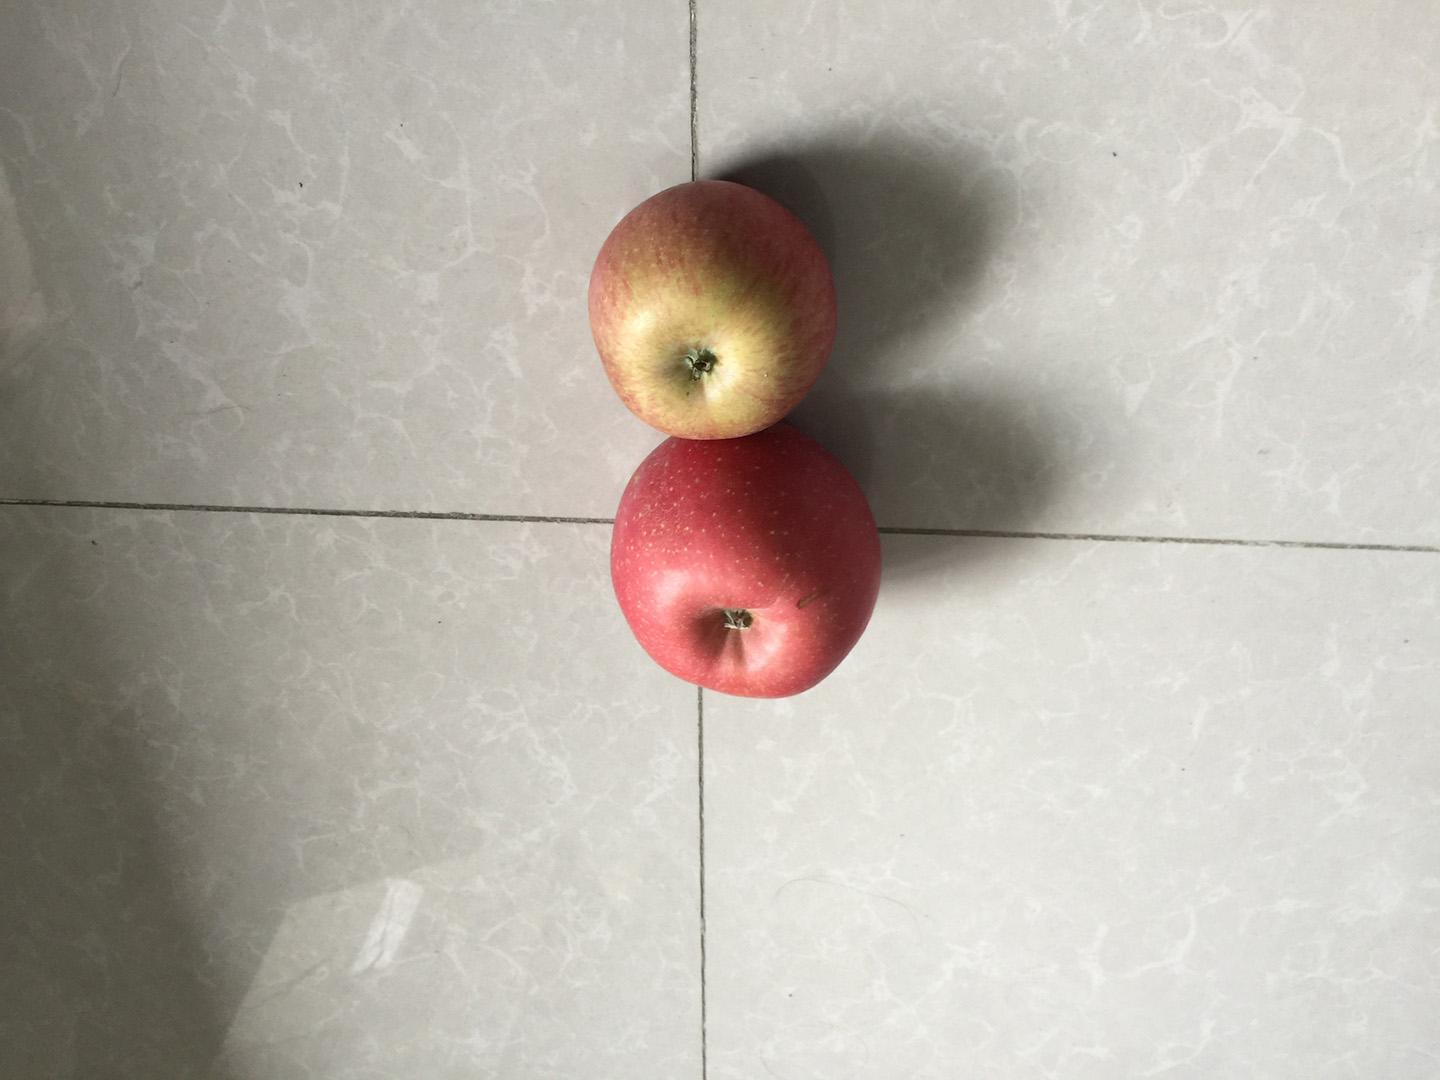apple: (605, 427, 889, 708), (581, 172, 841, 442)
